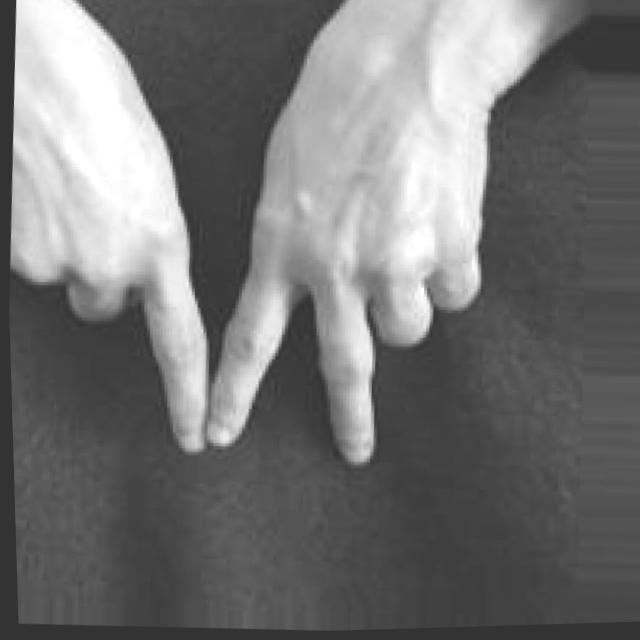N: (1, 10, 503, 491)
